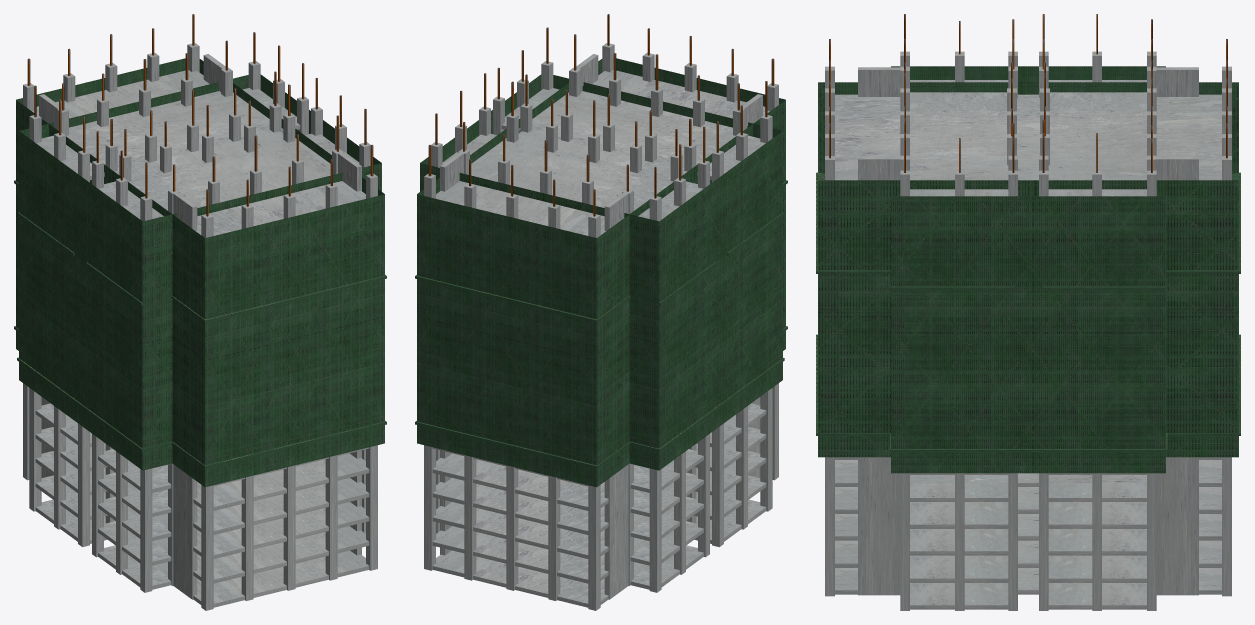
3 views of the same model, side by side, from view 1: azimuth 30°, elevation 25°; view 2: azimuth 150°, elevation 25°; view 3: azimuth 270°, elevation 25° (orthographic). The views are drawn at different scales.
Parts seen in each view (by area): view 1: 建筑工地1防尘布, 建筑工地1主结构, Mesh, 建筑工地1钢筋; view 2: 建筑工地1防尘布, 建筑工地1主结构, Mesh, 建筑工地1钢筋; view 3: 建筑工地1防尘布, 建筑工地1主结构, Mesh, 建筑工地1钢筋.
Boxes of the visible parts, x1=… form: 建筑工地1防尘布: x1=14, y1=58, x2=386, y2=487; 建筑工地1主结构: x1=23, y1=43, x2=377, y2=610; Mesh: x1=16, y1=59, x2=382, y2=575; 建筑工地1钢筋: x1=27, y1=14, x2=373, y2=216; 建筑工地1防尘布: x1=415, y1=58, x2=787, y2=487; 建筑工地1主结构: x1=424, y1=43, x2=778, y2=610; Mesh: x1=417, y1=71, x2=784, y2=591; 建筑工地1钢筋: x1=428, y1=14, x2=774, y2=216; 建筑工地1防尘布: x1=816, y1=66, x2=1240, y2=473; 建筑工地1主结构: x1=825, y1=51, x2=1231, y2=610; Mesh: x1=816, y1=66, x2=1240, y2=472; 建筑工地1钢筋: x1=829, y1=14, x2=1227, y2=172.
Size of the model in its own units: 366 by 618 by 501.
